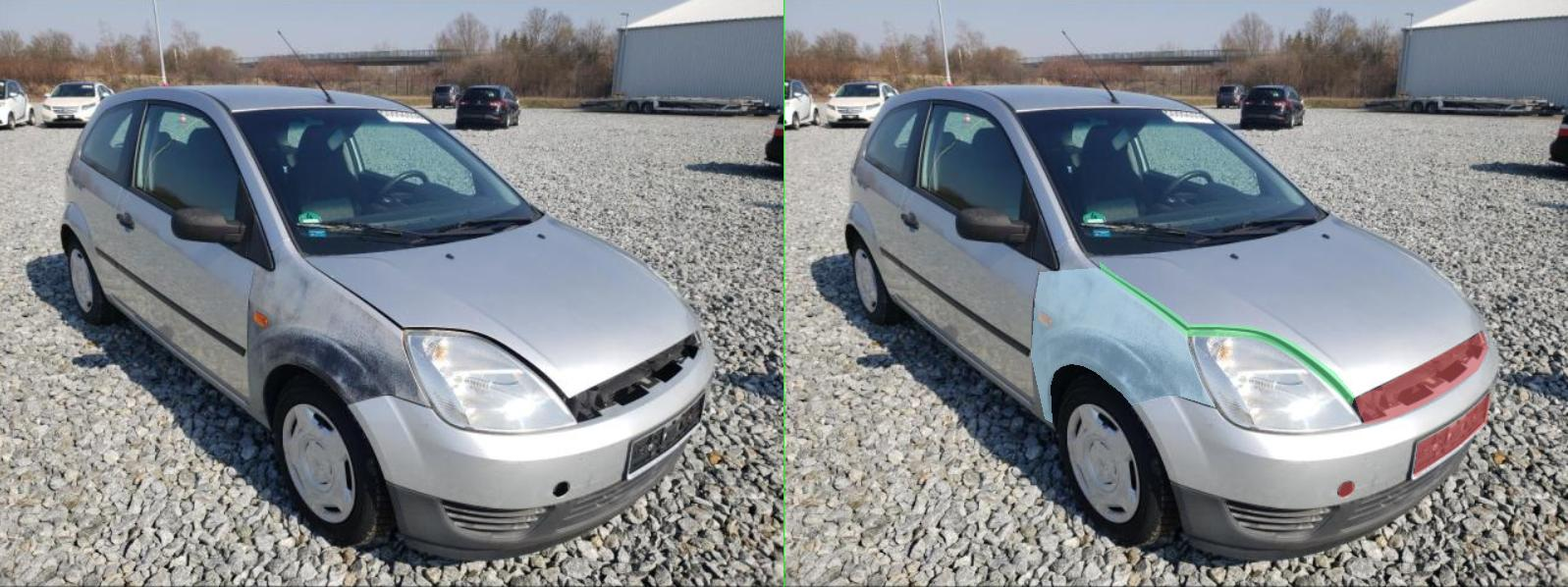Broken part: (631, 262, 1140, 404)
Corrosion: (493, 268, 861, 422)
Missing part: (1142, 332, 1407, 423), (1260, 394, 1411, 476), (1108, 482, 1140, 498)
